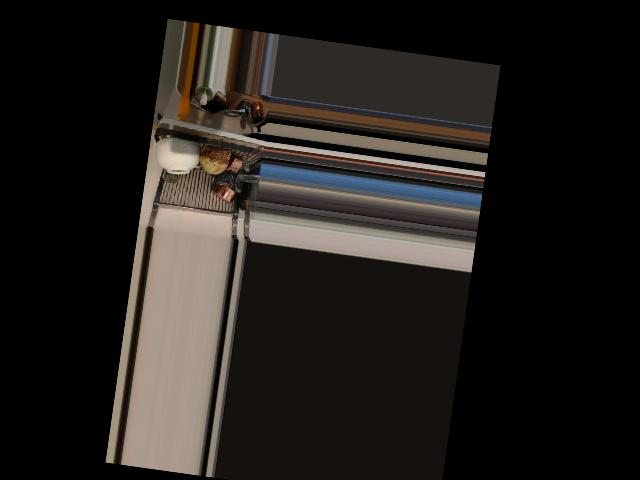onion: (198, 141, 230, 178)
